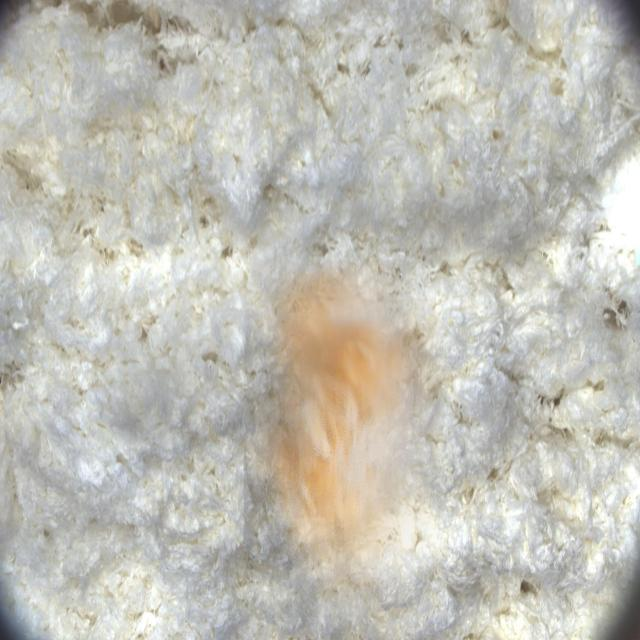dust: (244, 259, 444, 618)
